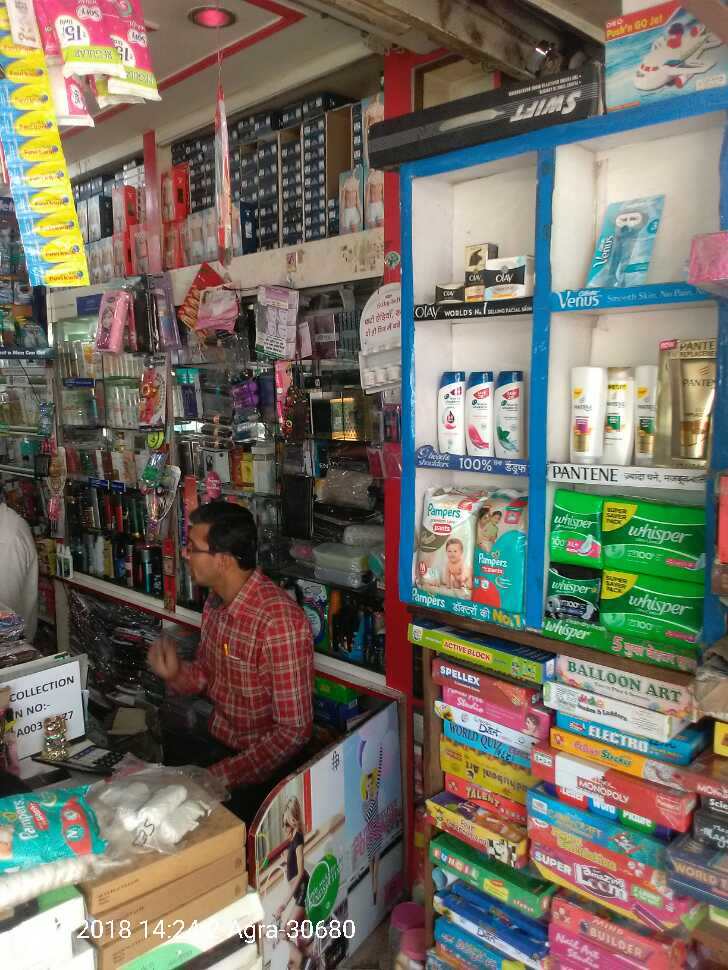venus: (598, 198, 649, 285)
